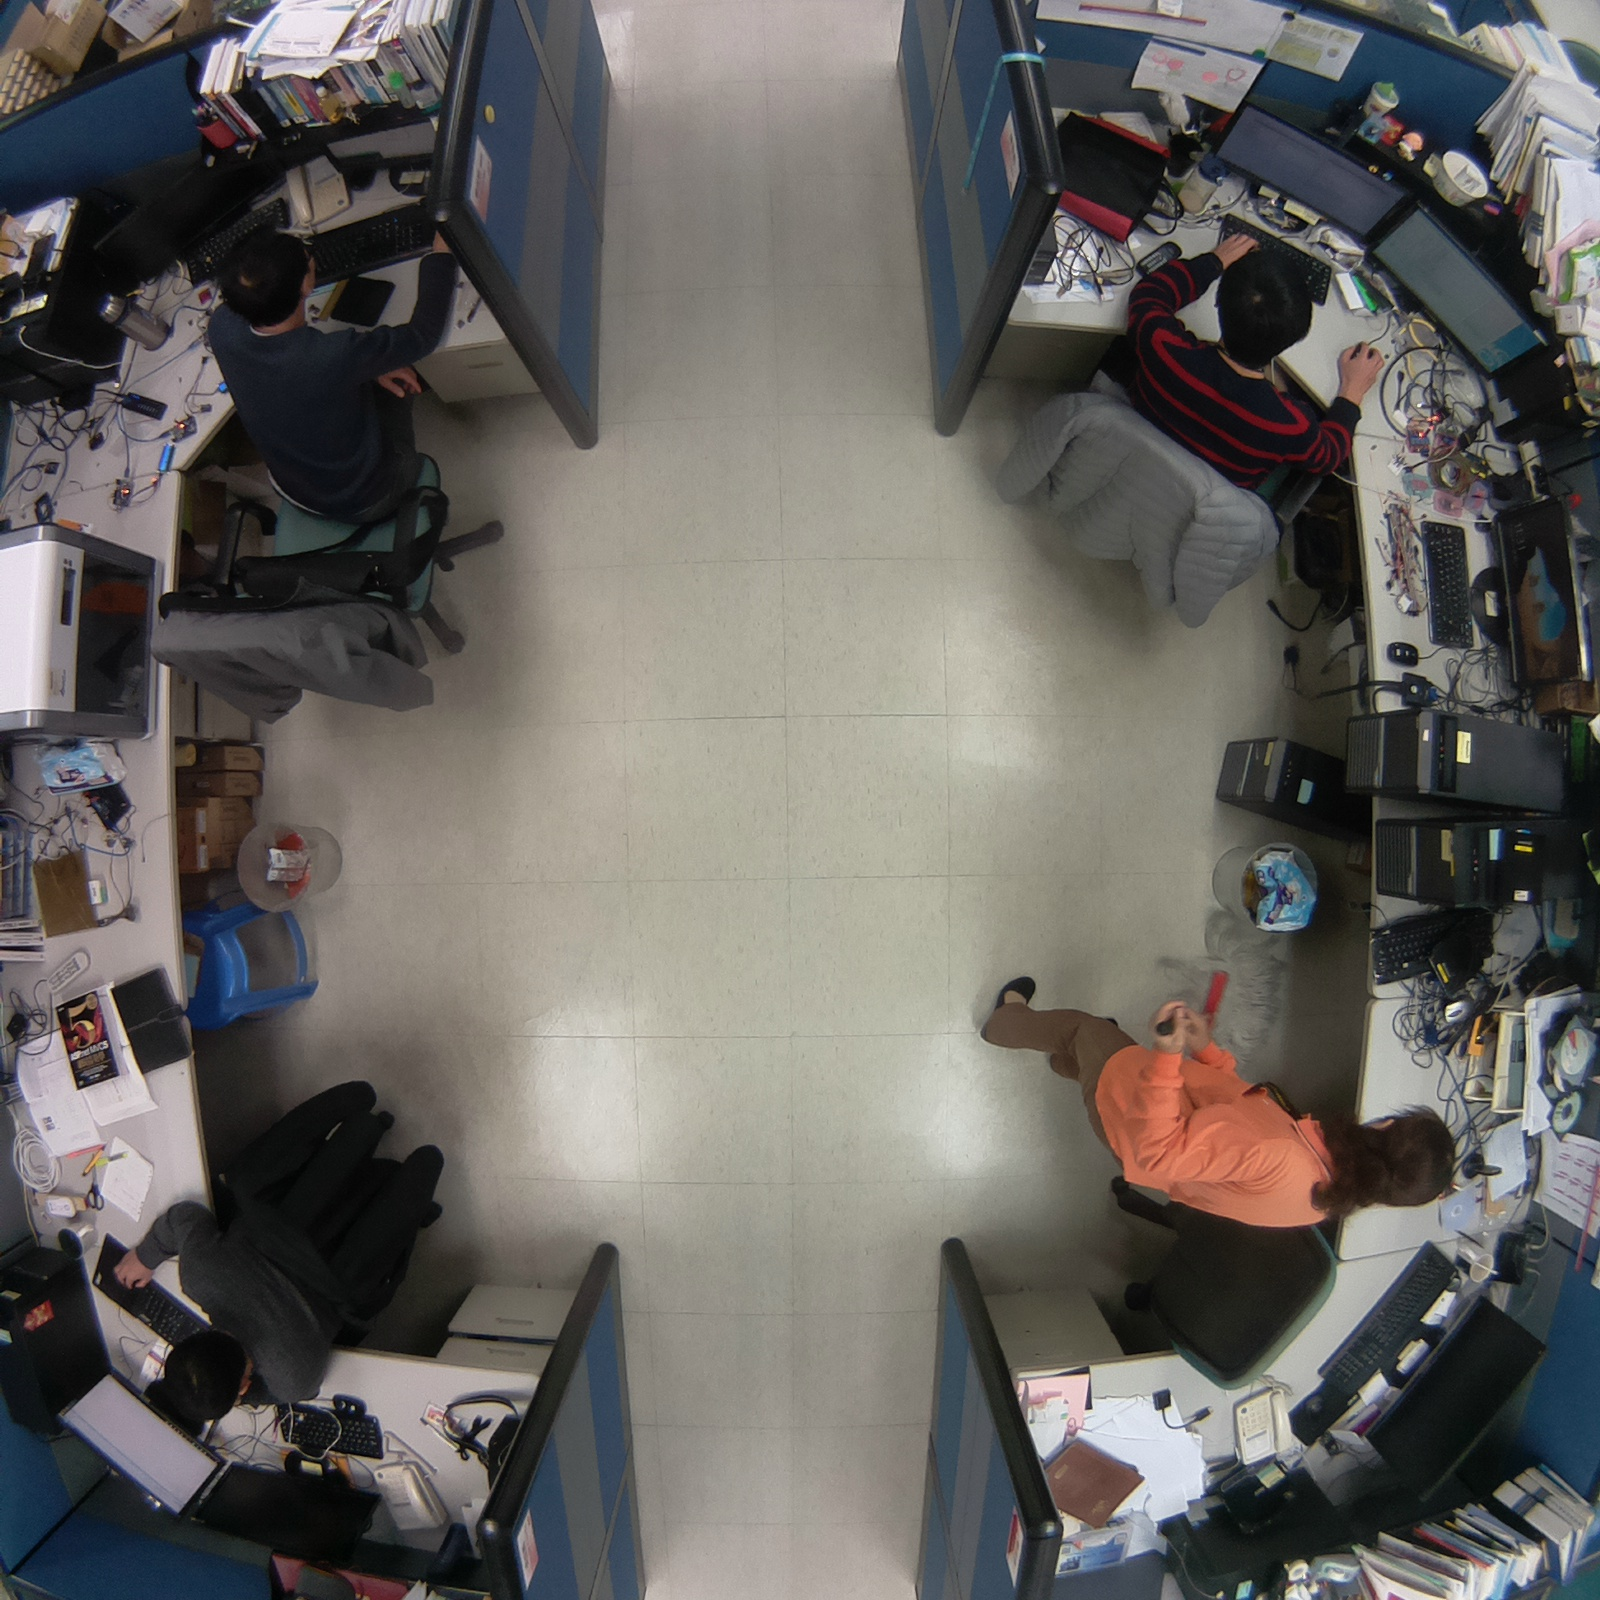chair: (1114, 1224, 1347, 1409)
head: (1332, 1093, 1463, 1225), (1215, 246, 1317, 363), (206, 219, 323, 321), (149, 1321, 253, 1431)
sitting: (132, 221, 519, 729), (986, 237, 1376, 652), (107, 1060, 468, 1426)
standing: (962, 949, 1462, 1238)
